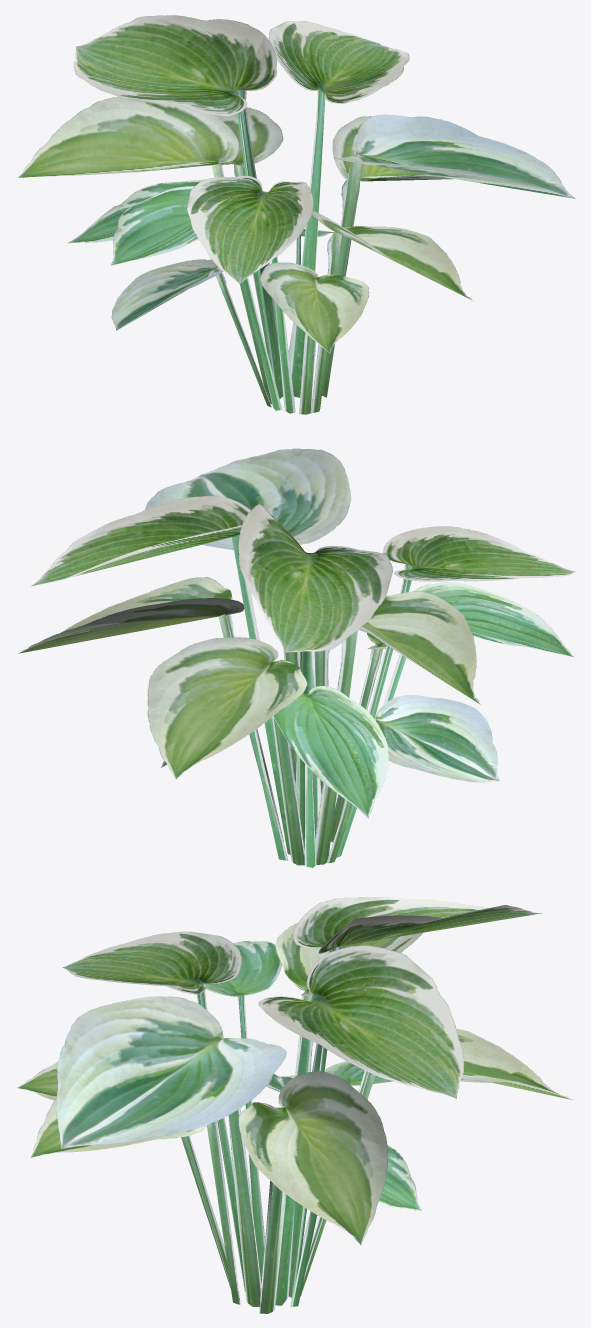
Rendered from plant_small_wg_00J.fbx.
3 renders of one model, top to bottom at view 1: azimuth 30°, elevation 25°; view 2: azimuth 150°, elevation 25°; view 3: azimuth 270°, elevation 25°, orthographic. The views are drawn at different scales.
Visible parts, largest first — view 1: plant_small_wg_00J; view 2: plant_small_wg_00J; view 3: plant_small_wg_00J.
Part boxes in pixels (bbox=[...]): plant_small_wg_00J: bbox=[18, 15, 575, 414]; plant_small_wg_00J: bbox=[18, 448, 574, 867]; plant_small_wg_00J: bbox=[17, 897, 572, 1313].
Size of the model in its own units: 65.6 by 49.17 by 63.99.
1 material, 1 textured.
